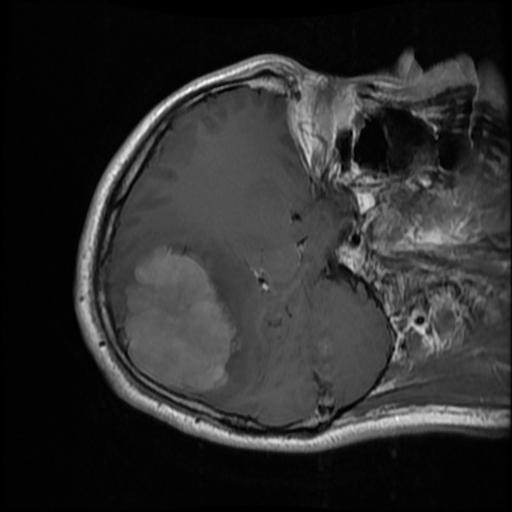meningioma: (124, 247, 238, 395)
